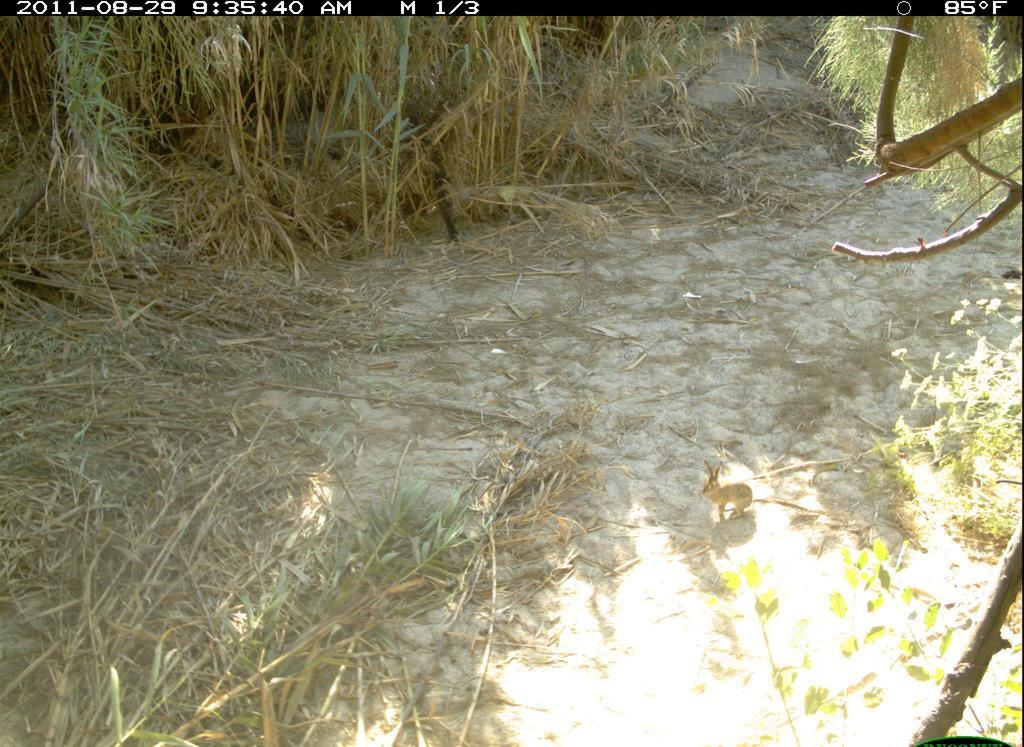rabbit: (698, 449, 775, 528)
